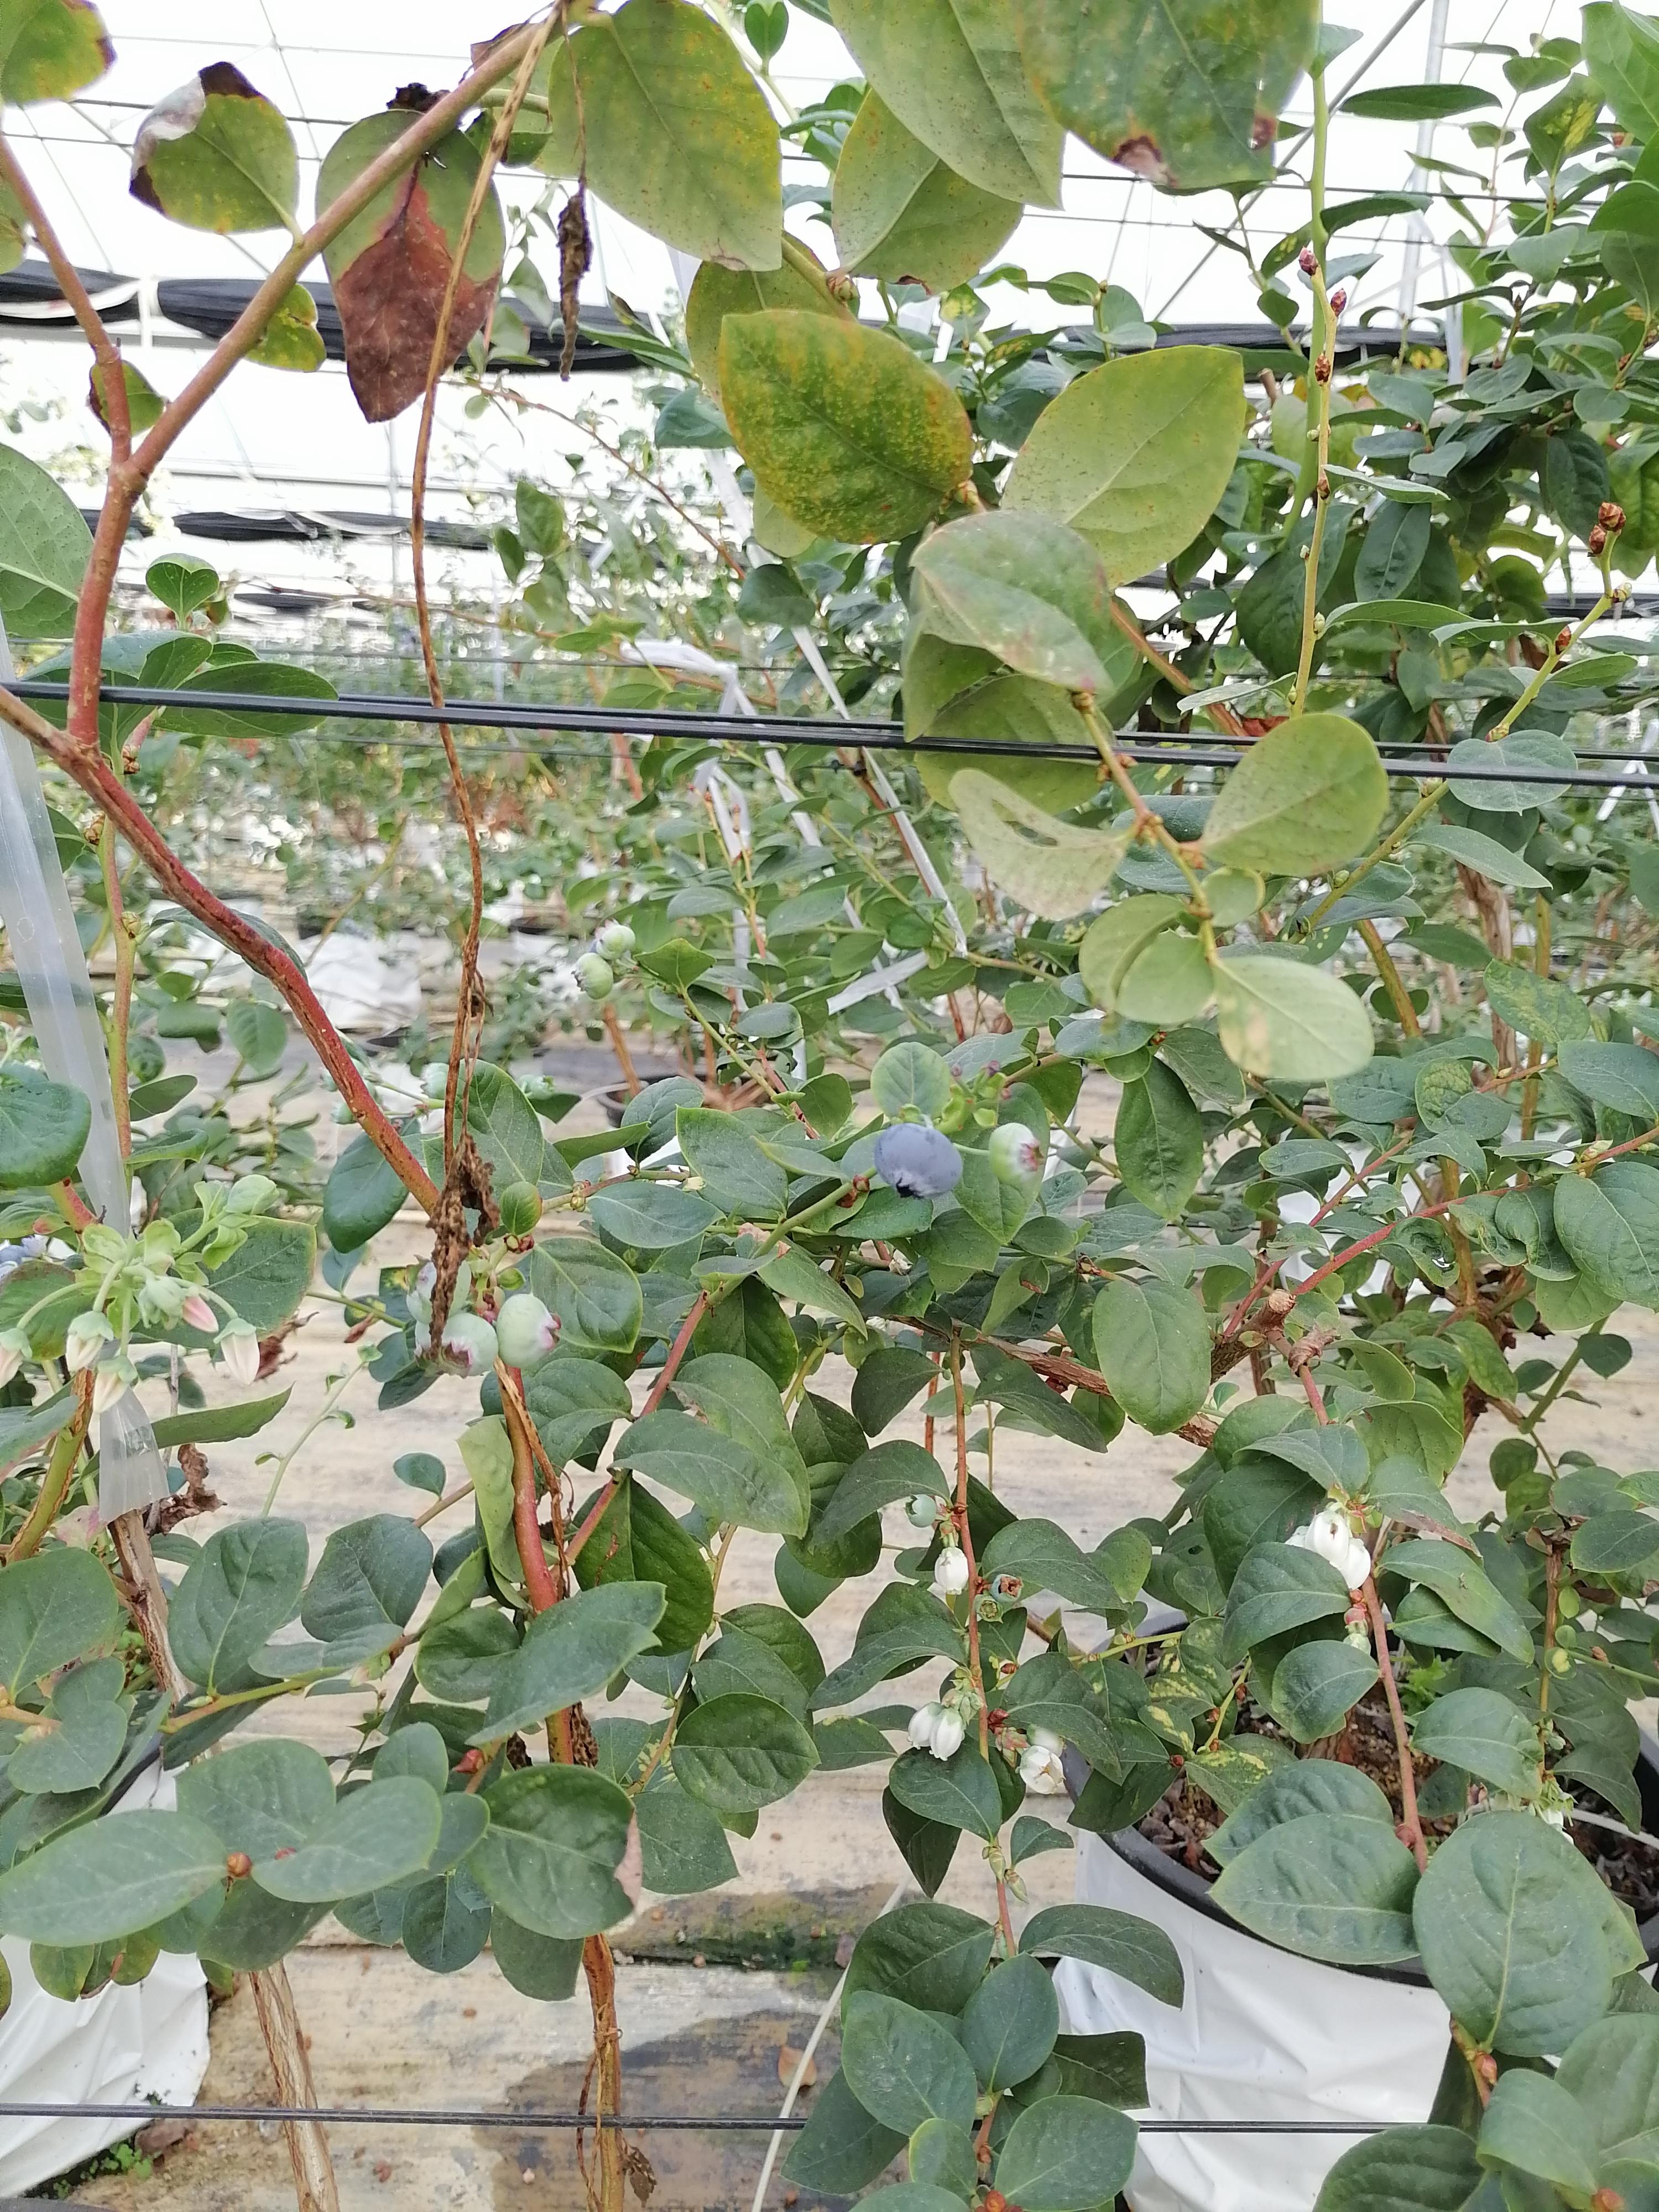ripe-blueberries: (873, 1122, 964, 1200)
